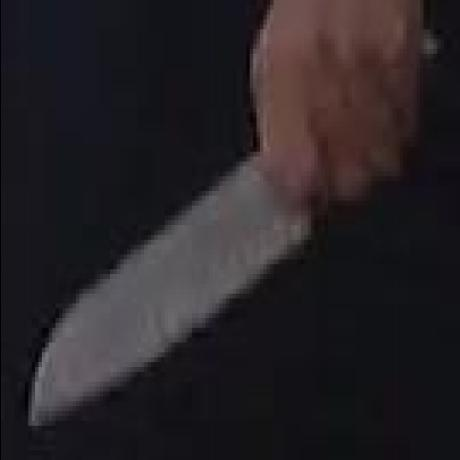weapon: (25, 139, 315, 434)
